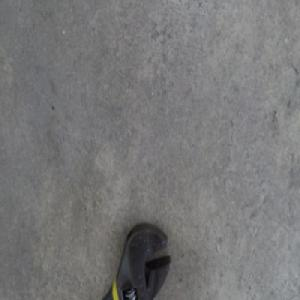AdjustableWrench: (103, 224, 171, 299)
